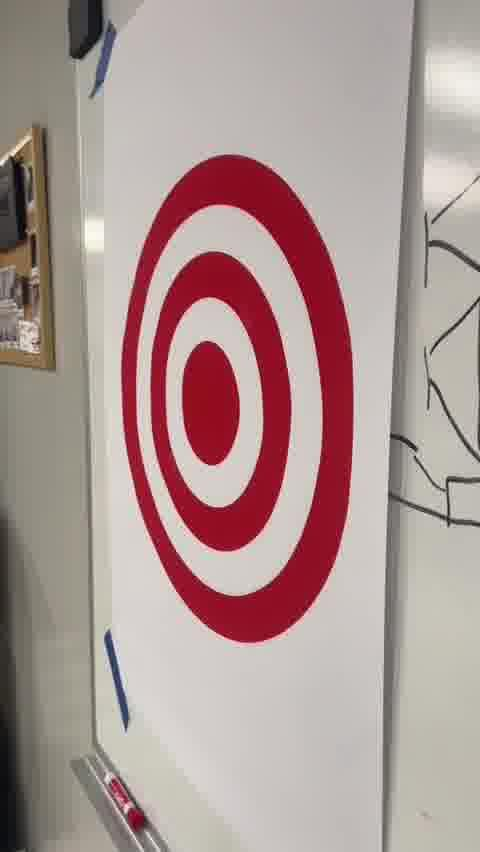target_red: (118, 152, 358, 645)
